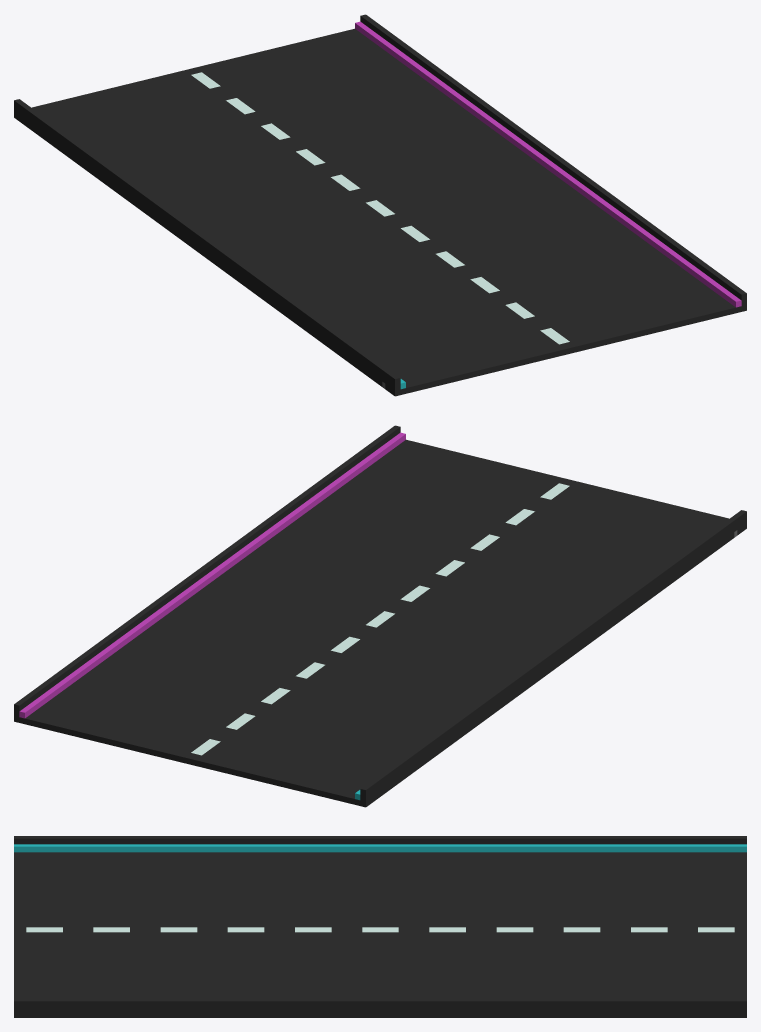
Rendered from SM_Road_4.fbx.
3 renders of one model, top to bottom at view 1: azimuth 30°, elevation 25°; view 2: azimuth 150°, elevation 25°; view 3: azimuth 270°, elevation 25°, orthographic. The views are drawn at different scales.
Parts seen in each view (by area): view 1: Road_4; view 2: Road_4; view 3: Road_4.
Boxes of the visible parts, left/top/right/bottom form: Road_4: left=14, top=14, right=746, bottom=396; Road_4: left=14, top=425, right=746, bottom=807; Road_4: left=14, top=836, right=746, bottom=1017.
Size of the model in its own units: 1280 by 60 by 2400.
Materials: 3 (1 with a texture image).
